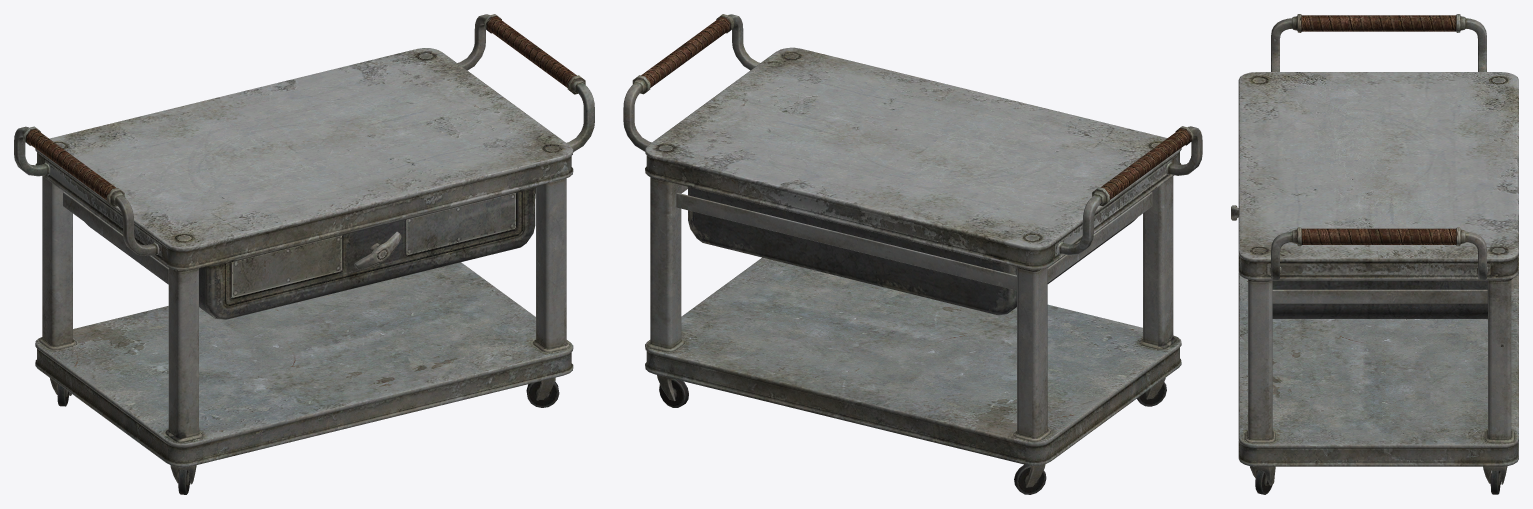
File: prop_bench_work.glb
3 views of the same model, side by side, from view 1: azimuth 30°, elevation 25°; view 2: azimuth 150°, elevation 25°; view 3: azimuth 270°, elevation 25° (orthographic). The views are drawn at different scales.
Visible parts, largest first — view 1: prop_bench_work; view 2: prop_bench_work; view 3: prop_bench_work.
Part boxes in pixels (bbox=[...]): prop_bench_work: bbox=[14, 14, 594, 494]; prop_bench_work: bbox=[623, 14, 1202, 494]; prop_bench_work: bbox=[1231, 14, 1518, 494].
Bounding box in the file's own units: 2.32 × 1.41 × 1.28.
Materials: 1 (1 with a texture image).
